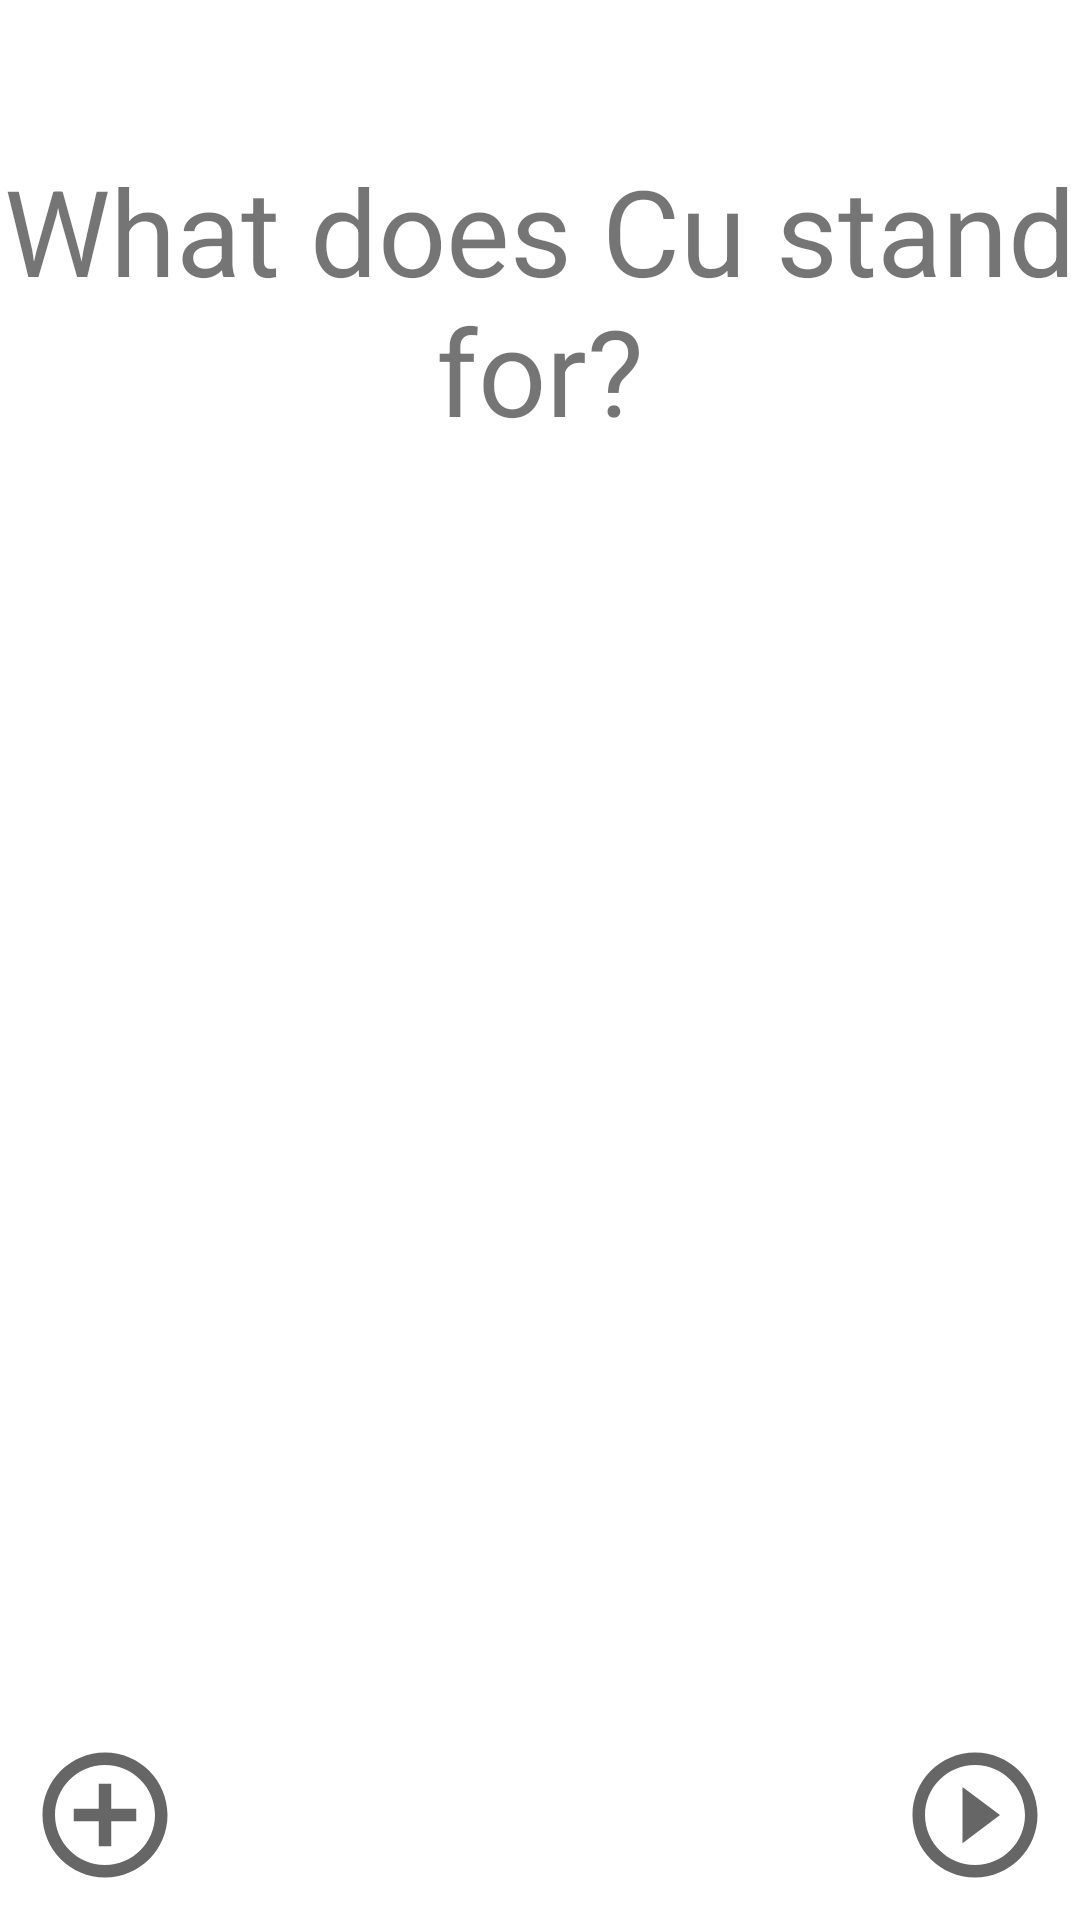

Icons on this 1080 × 1920 Android screen, each with the point to tap as point (x, y):
add: point (105, 1815)
